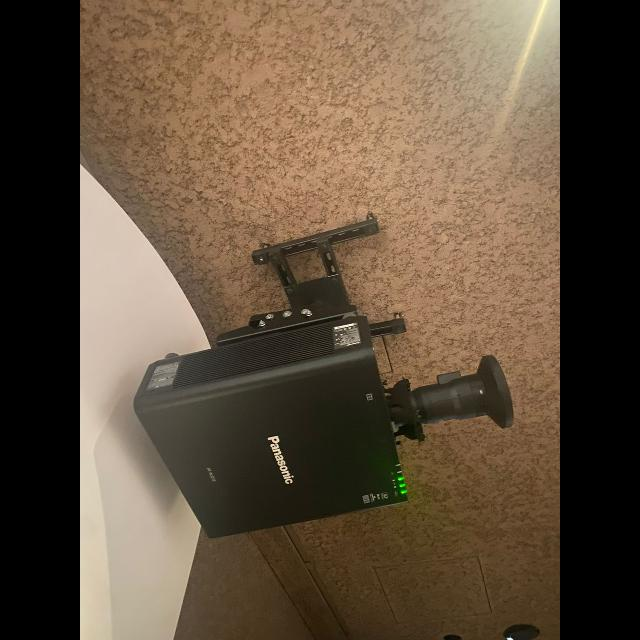Projector: (134, 316, 514, 538)
